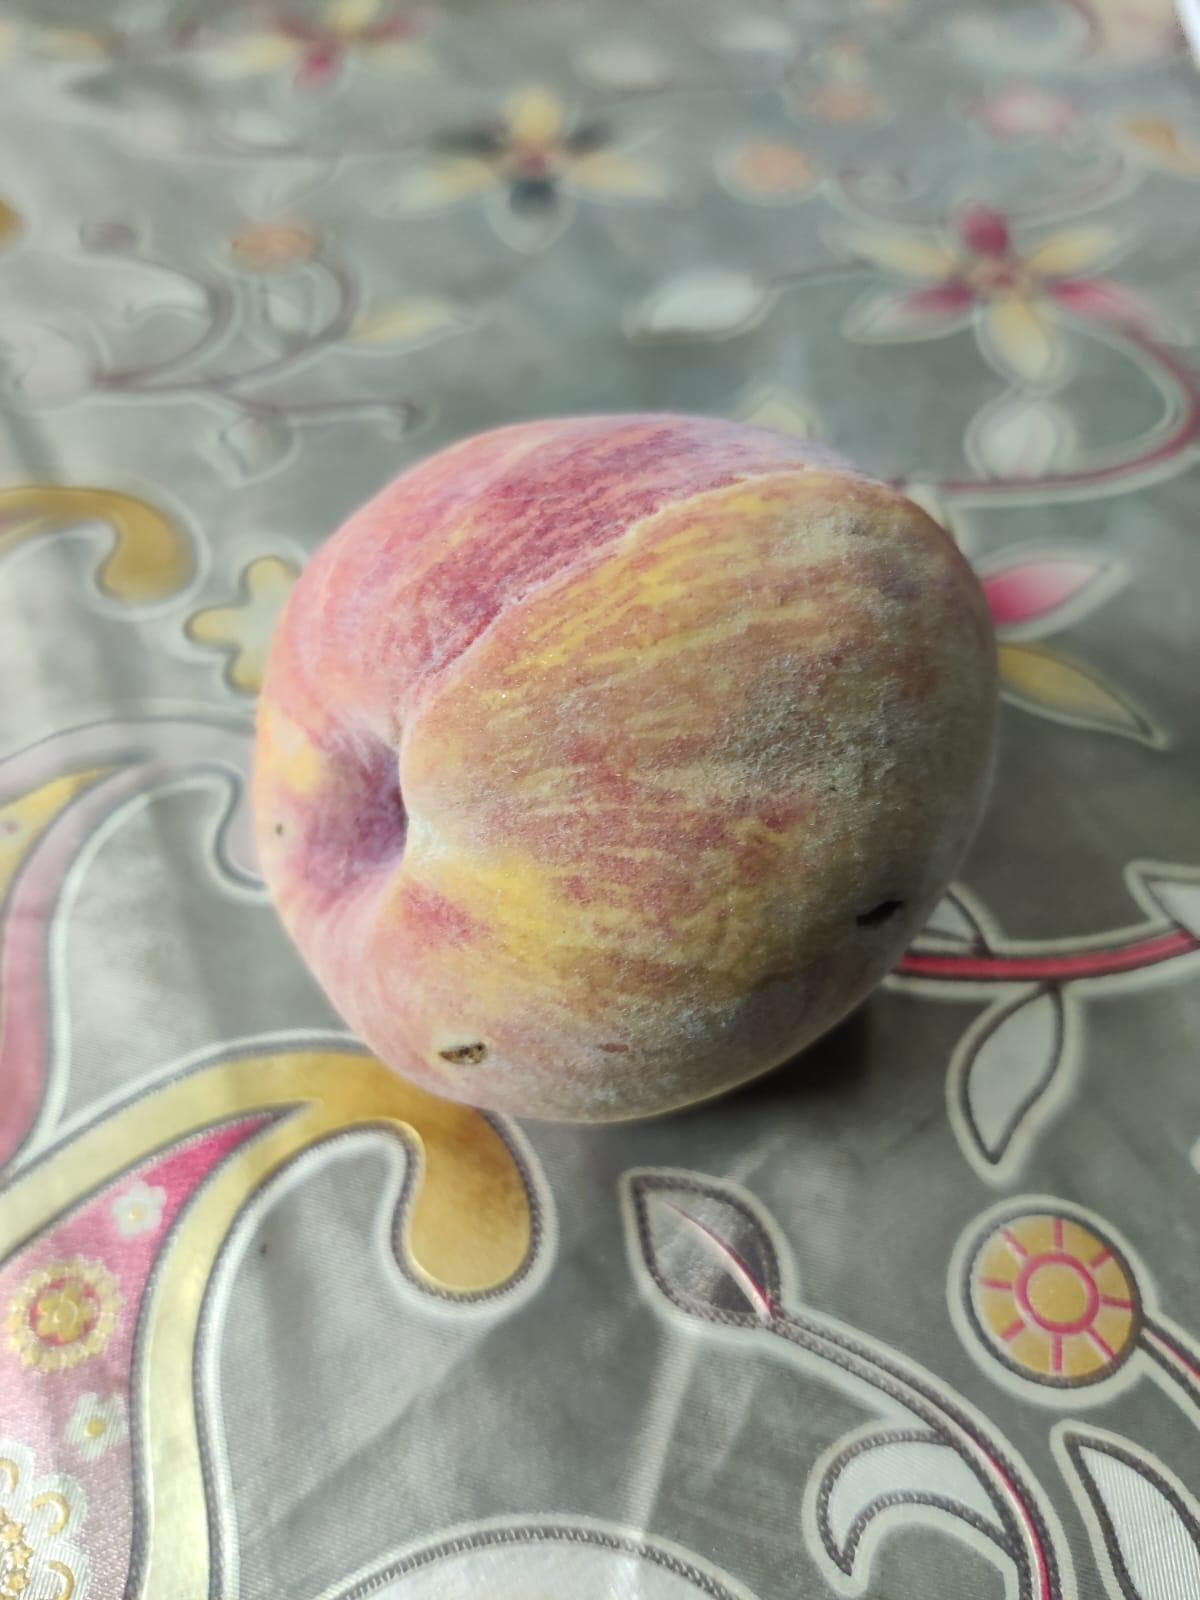non-mango: (229, 397, 997, 1128)
